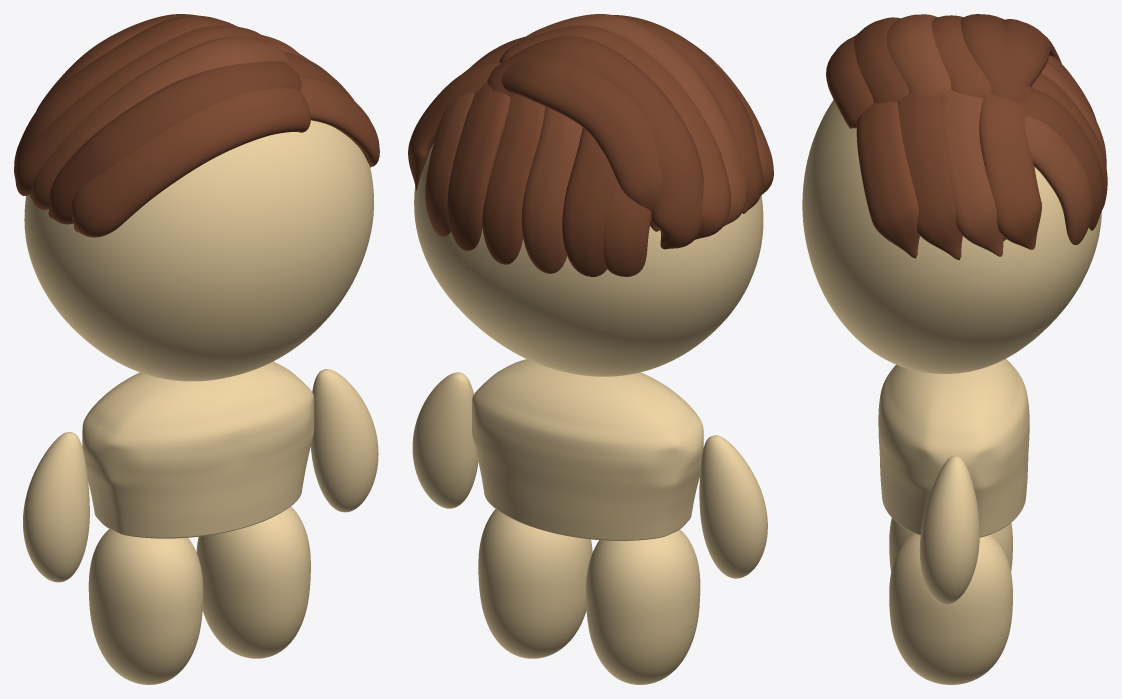
Rendered from Masculine-base.glb.
3 renders of one model, left to right at view 1: azimuth 30°, elevation 25°; view 2: azimuth 150°, elevation 25°; view 3: azimuth 270°, elevation 25°, orthographic.
Parts seen in each view (by area): view 1: Skin / soft oval head, Skin / rounded torso, Skin / leg blob -1, Skin / leg blob 1, Hair / Side part main 0, Hair / Side part main 1, Skin / swept arm -1, Skin / swept arm 1, Hair / Side part main 2, Hair / Side part main 3, Hair / Side part main 4, Hair / Side part short 0 (+2 smaller); view 2: Skin / rounded torso, Skin / soft oval head, Skin / leg blob -1, Skin / leg blob 1, Hair / Side part crown, Hair / Side part main 4, Skin / swept arm -1, Skin / swept arm 1, Hair / Side part nape 2, Hair / Side part main 3, Hair / Side part nape 3, Hair / Side part nape 4 (+7 smaller); view 3: Skin / soft oval head, Skin / rounded torso, Skin / leg blob 1, Skin / swept arm 1, Hair / Side part short 3, Hair / Side part short 0, Hair / Side part short 1, Hair / Side part short 2, Hair / Side part nape 5, Hair / Side part main 2, Hair / Side part nape 4, Hair / Side part main 4 (+7 smaller).
Part boxes in pixels (<box>): Skin / soft oval head: <box>24,120,373,381</box>; Skin / rounded torso: <box>82,361,314,538</box>; Skin / leg blob -1: <box>88,529,203,684</box>; Skin / leg blob 1: <box>196,506,310,658</box>; Hair / Side part main 0: <box>71,88,310,237</box>; Hair / Side part main 1: <box>48,61,301,224</box>; Skin / swept arm -1: <box>23,432,89,582</box>; Skin / swept arm 1: <box>310,369,378,512</box>; Hair / Side part main 2: <box>31,36,288,209</box>; Hair / Side part main 3: <box>15,26,269,195</box>; Hair / Side part main 4: <box>14,15,236,177</box>; Hair / Side part short 0: <box>298,75,379,167</box>; Skin / rounded torso: <box>472,359,703,540</box>; Skin / soft oval head: <box>414,143,763,376</box>; Skin / leg blob -1: <box>586,529,700,684</box>; Skin / leg blob 1: <box>478,509,592,658</box>; Hair / Side part crown: <box>501,55,662,231</box>; Hair / Side part main 4: <box>487,36,703,249</box>; Skin / swept arm -1: <box>699,435,767,578</box>; Skin / swept arm 1: <box>412,372,478,508</box>; Hair / Side part nape 2: <box>521,106,582,273</box>; Hair / Side part main 3: <box>499,25,730,239</box>; Hair / Side part nape 3: <box>482,94,545,264</box>; Hair / Side part nape 4: <box>447,82,510,250</box>; Skin / soft oval head: <box>802,100,1101,373</box>; Skin / rounded torso: <box>878,359,1029,537</box>; Skin / leg blob 1: <box>889,532,1012,684</box>; Skin / swept arm 1: <box>919,455,979,604</box>; Hair / Side part short 3: <box>979,93,1041,249</box>; Hair / Side part short 0: <box>856,102,919,258</box>; Hair / Side part short 1: <box>897,93,962,260</box>; Hair / Side part short 2: <box>940,89,1003,256</box>; Hair / Side part nape 5: <box>1025,116,1092,244</box>; Hair / Side part main 2: <box>886,14,951,96</box>; Hair / Side part nape 4: <box>1016,89,1104,230</box>; Hair / Side part main 4: <box>960,14,1032,102</box>.
Size of the model in its own units: 1.07 by 1.87 by 0.825.
